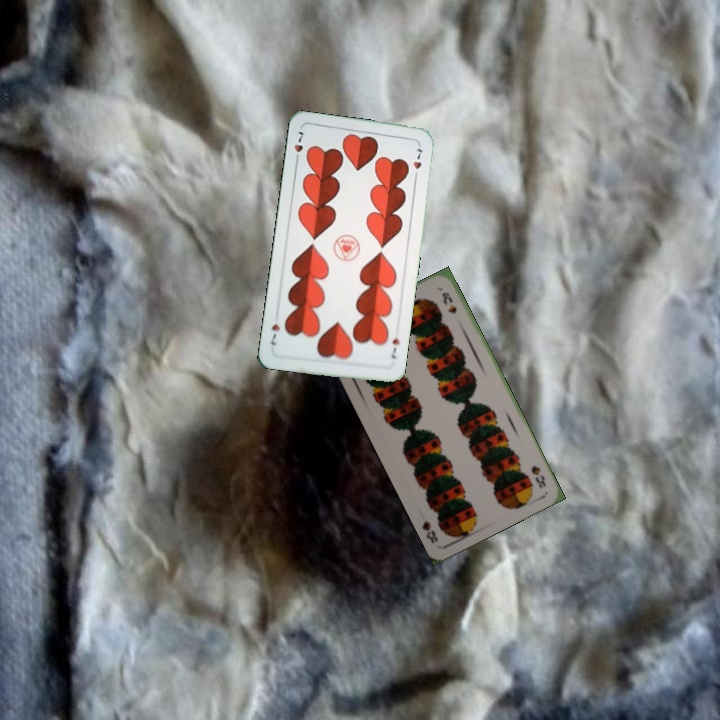H7: (290, 127, 307, 166), (388, 334, 402, 362)
S8: (527, 461, 549, 491)
